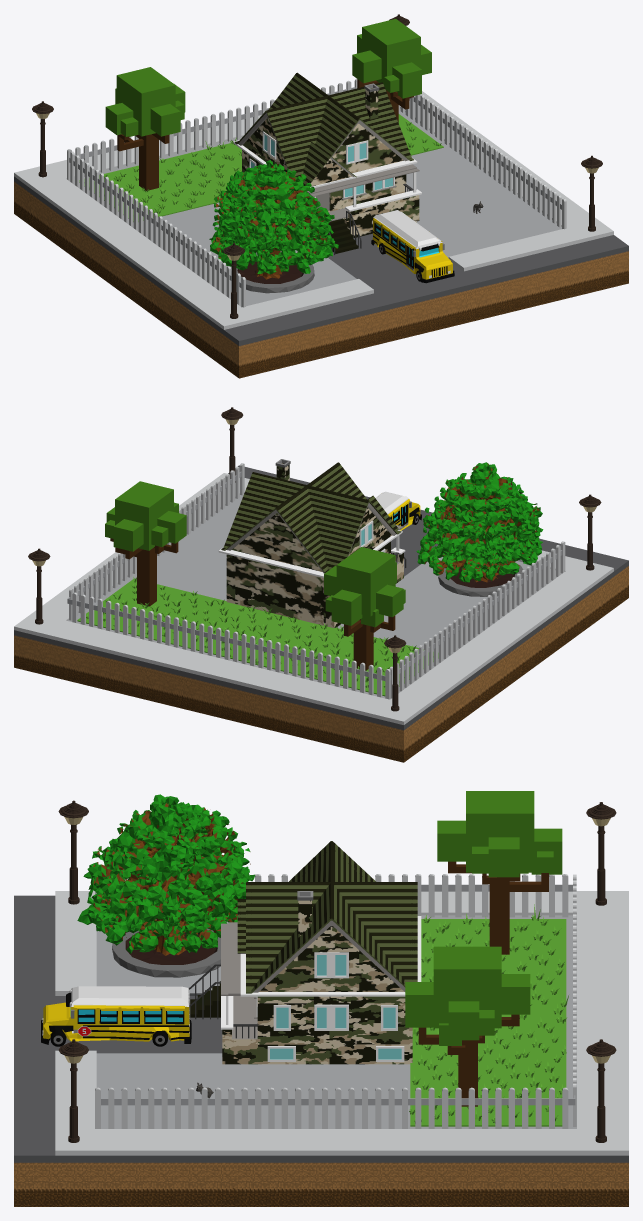
3 views of the same model, one above another, from view 1: azimuth 30°, elevation 25°; view 2: azimuth 150°, elevation 25°; view 3: azimuth 270°, elevation 25° (orthographic). The views are drawn at different scales.
Visible parts, largest first — view 1: Cube.004, Cube.001, OBJRANDOM_CEIBA, VEHICLES_SCHOOL_BUS; view 2: Cube.004, Cube.001, OBJRANDOM_CEIBA, VEHICLES_SCHOOL_BUS; view 3: Cube.004, Cube.001, OBJRANDOM_CEIBA, VEHICLES_SCHOOL_BUS.
Boxes of the visible parts, x1=… form: Cube.004: x1=14, y1=14, x2=628, y2=378; Cube.001: x1=233, y1=72, x2=421, y2=254; OBJRANDOM_CEIBA: x1=209, y1=160, x2=338, y2=293; VEHICLES_SCHOOL_BUS: x1=371, y1=210, x2=454, y2=283; Cube.004: x1=14, y1=407, x2=628, y2=762; Cube.001: x1=218, y1=459, x2=406, y2=627; OBJRANDOM_CEIBA: x1=416, y1=462, x2=543, y2=596; VEHICLES_SCHOOL_BUS: x1=375, y1=491, x2=421, y2=530; Cube.004: x1=14, y1=791, x2=628, y2=1206; Cube.001: x1=189, y1=841, x2=421, y2=1064; OBJRANDOM_CEIBA: x1=77, y1=794, x2=255, y2=977; VEHICLES_SCHOOL_BUS: x1=41, y1=986, x2=191, y2=1046.
Bounding box in the file's own units: 4000 × 1554 × 4000.
Materials: 37 (6 with a texture image).
